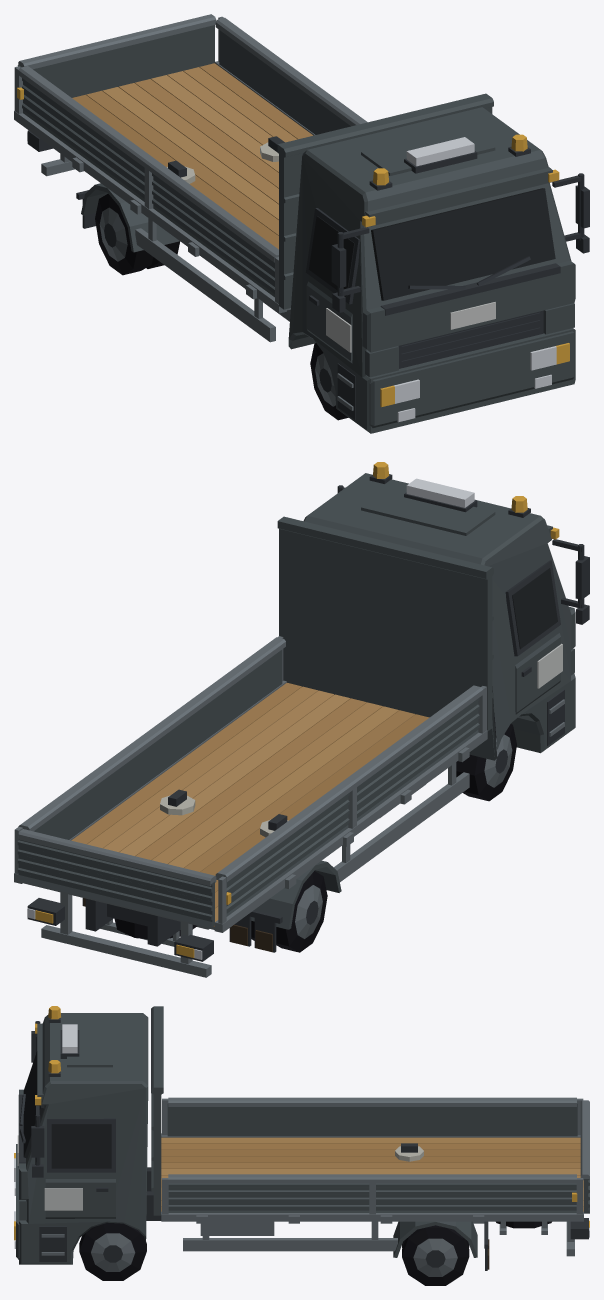
File: trucks.glb
3 renders of one model, top to bottom at view 1: azimuth 30°, elevation 25°; view 2: azimuth 150°, elevation 25°; view 3: azimuth 270°, elevation 25°, orthographic. The views are drawn at different scales.
Parts seen in each view (by area): view 1: body, wheel-rr-mesh, wheel-fr-mesh, load-mesh; view 2: body, wheel-rr-mesh, wheel-fr-mesh, load-mesh; view 3: body, wheel-rl-mesh, wheel-fl-mesh, load-mesh.
Boxes of the visible parts, <box> form: body: <box>14,14,589,433</box>; wheel-rr-mesh: <box>95,194,180,275</box>; wheel-fr-mesh: <box>310,343,348,420</box>; load-mesh: <box>167,136,285,183</box>; body: <box>14,462,589,977</box>; wheel-rr-mesh: <box>251,871,327,952</box>; wheel-fr-mesh: <box>456,717,516,801</box>; load-mesh: <box>160,789,288,837</box>; body: <box>14,1006,589,1270</box>; wheel-rl-mesh: <box>402,1225,469,1285</box>; wheel-fl-mesh: <box>79,1222,146,1280</box>; load-mesh: <box>395,1143,423,1161</box>.
Bounding box in the file's own units: 3 × 3.07 × 7.5.
